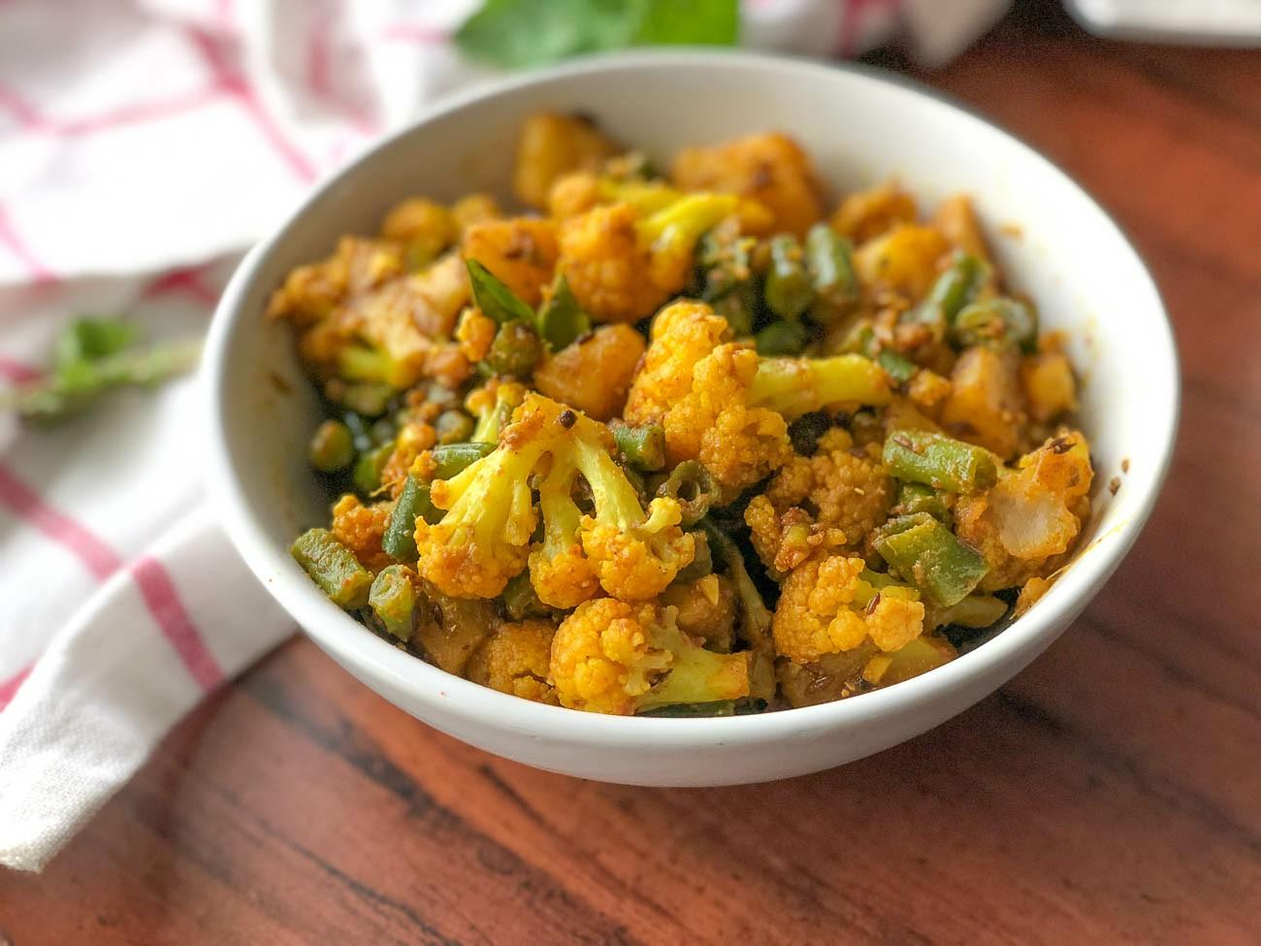AlooGobi: (270, 107, 1092, 718)
